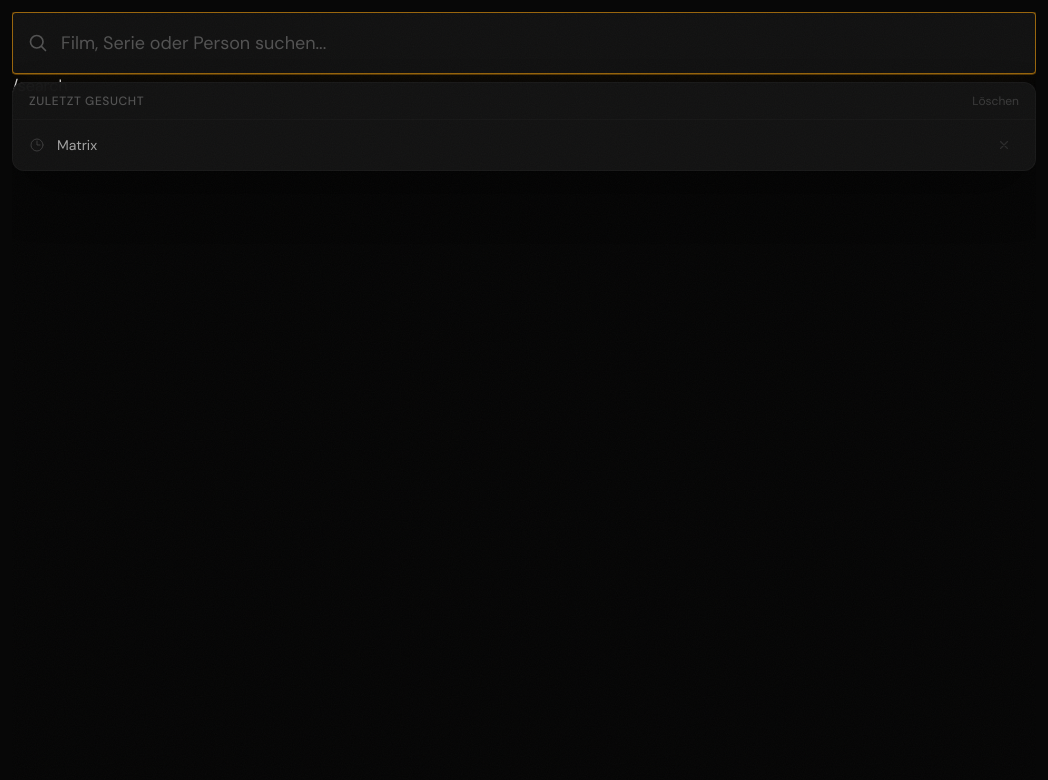
Test: SearchBar › schliesst offene Dropdowns bei Klick ausserhalb
Focus the dropdown at (524, 43), box [12,12,1036,74]
Check: the text "Zuletzt gesucht" is shown, box [29,93,144,109]
Press the mouse on the element showing "Zuletzt gesucht Löschen Matrix /search" at (524, 396), box [12,12,1036,779]
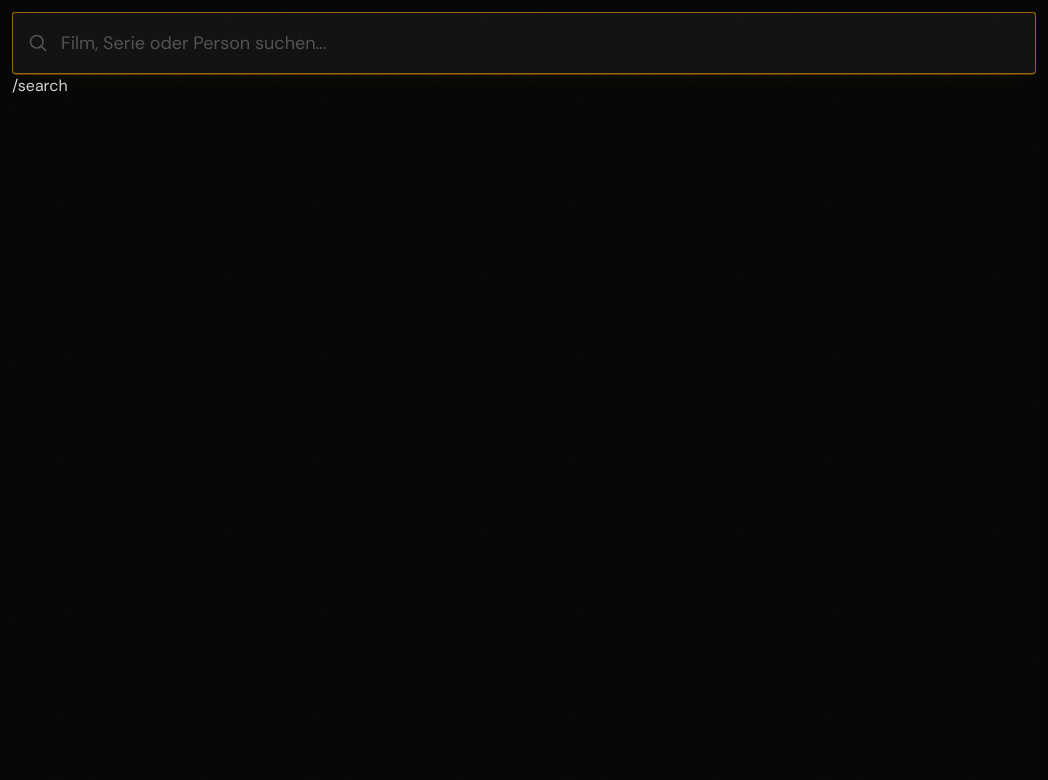
Check: the text "Zuletzt gesucht" is gone
